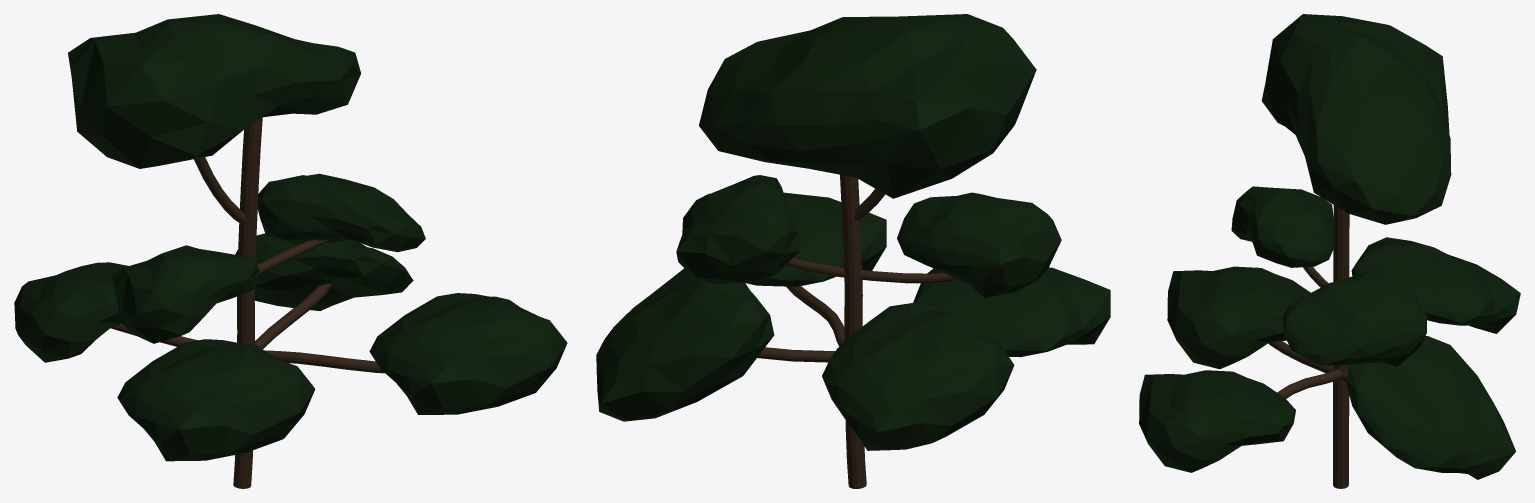
The model's file is SM_light_tree_08.fbx.
3 views of the same model, side by side, from view 1: azimuth 30°, elevation 25°; view 2: azimuth 150°, elevation 25°; view 3: azimuth 270°, elevation 25° (orthographic). The views are drawn at different scales.
Parts seen in each view (by area): view 1: light_tree_08; view 2: light_tree_08; view 3: light_tree_08.
Boxes of the visible parts, x1,y1,x2,y2 form: light_tree_08: (14, 14, 567, 488); light_tree_08: (596, 14, 1110, 488); light_tree_08: (1139, 14, 1520, 488).
Bounding box in the file's own units: 60.03 × 64.99 × 53.14.
